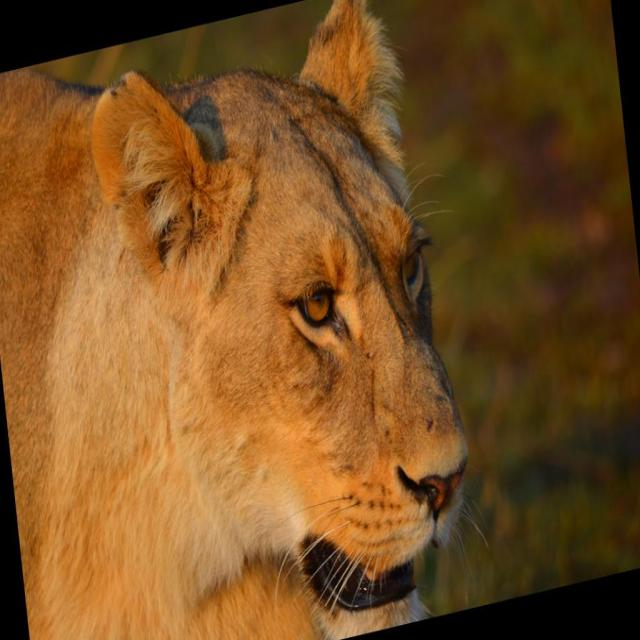Lion: (0, 0, 499, 639)
